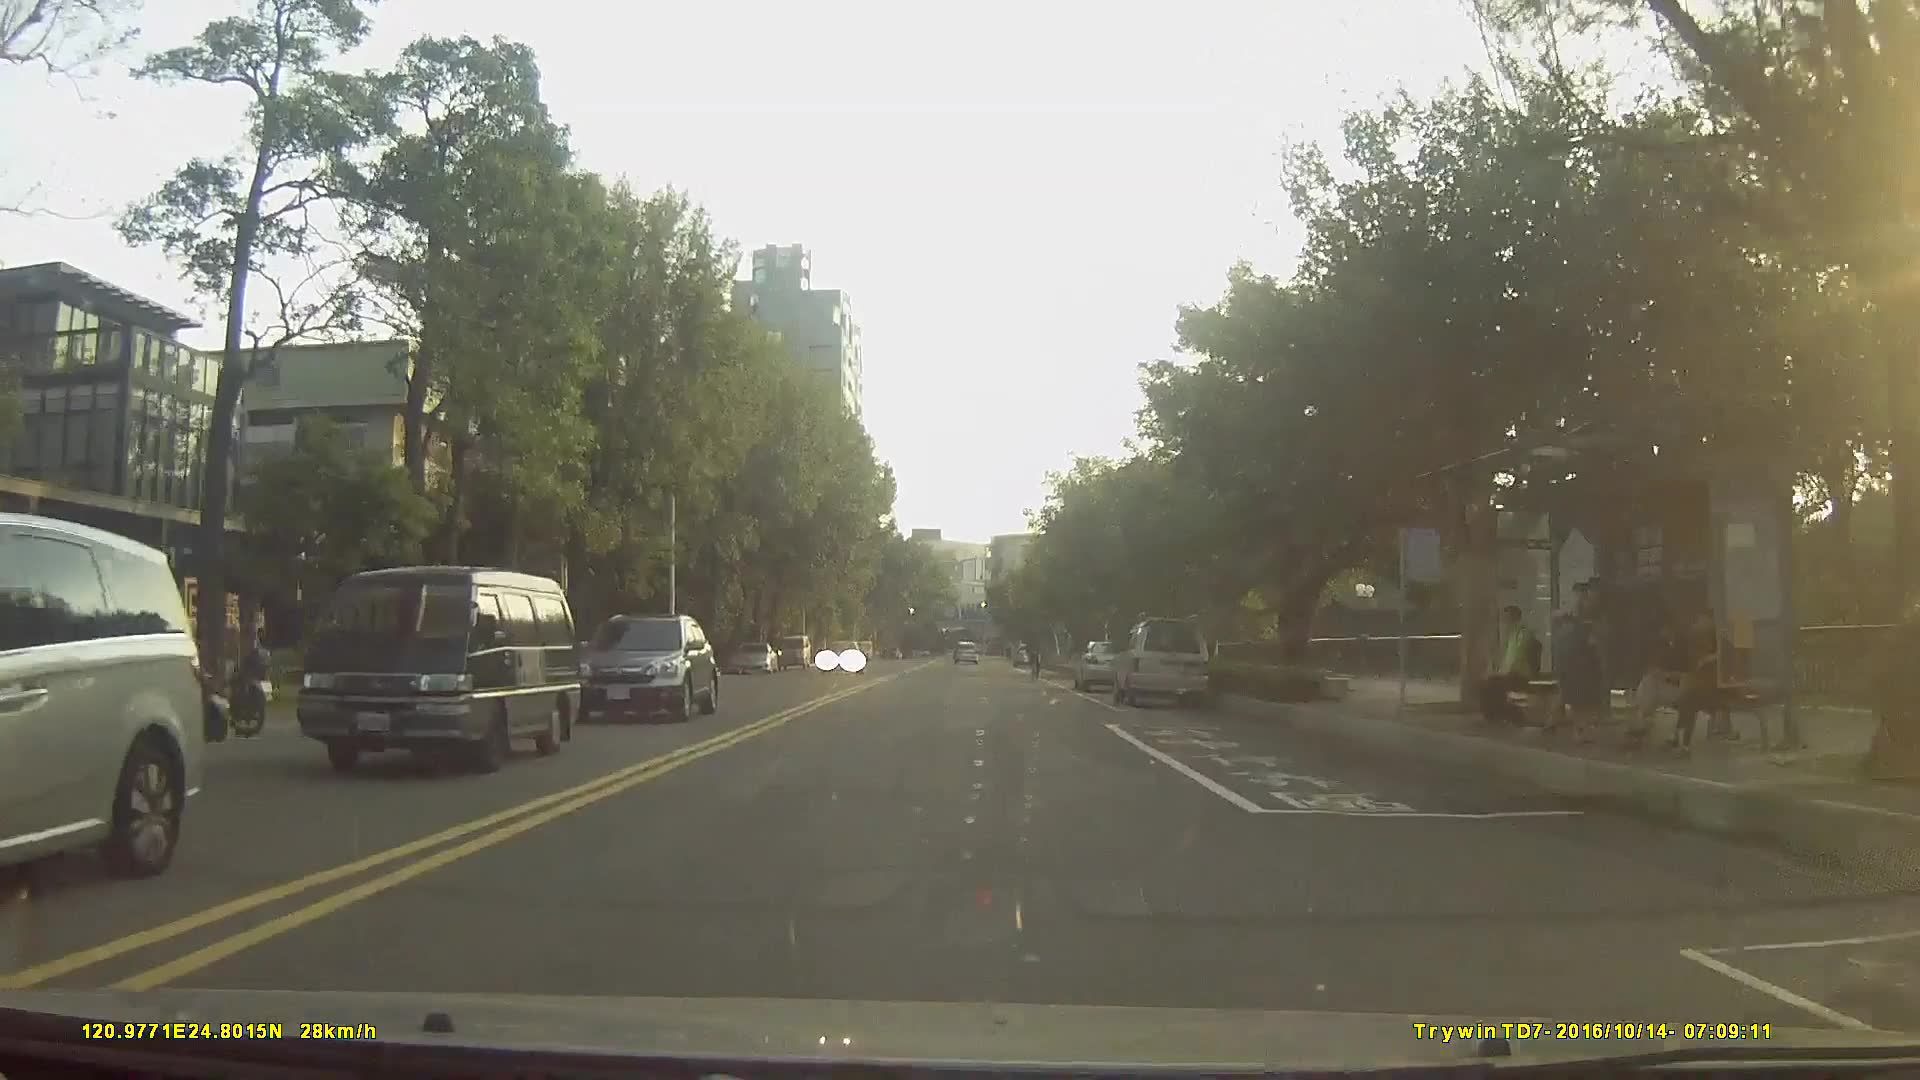pedestrian: (1662, 598, 1769, 757), (1547, 576, 1614, 750), (1629, 616, 1715, 750), (1482, 596, 1551, 729)
rider: (1025, 633, 1045, 683)
vehicle: (0, 513, 201, 886), (293, 565, 578, 780), (573, 614, 718, 722), (1111, 617, 1210, 708), (1073, 638, 1134, 691), (817, 634, 862, 671), (732, 639, 777, 674), (775, 632, 810, 672), (951, 641, 977, 667)
